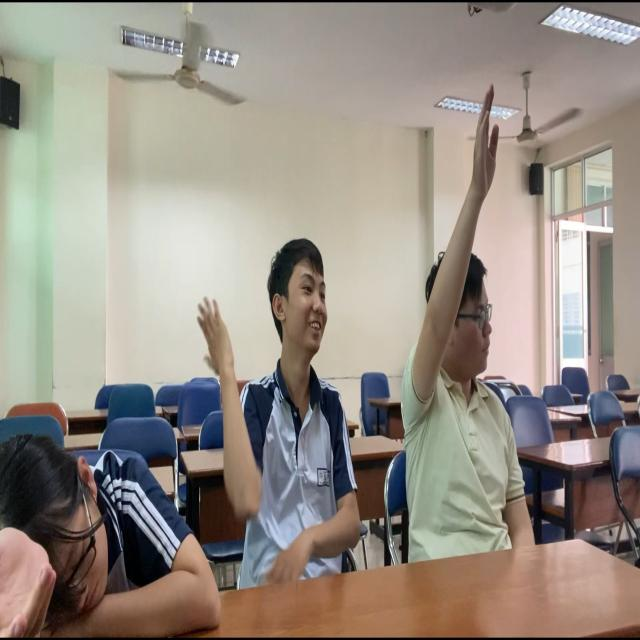raise_hand: (403, 79, 546, 571)
sleep: (1, 435, 220, 640)
